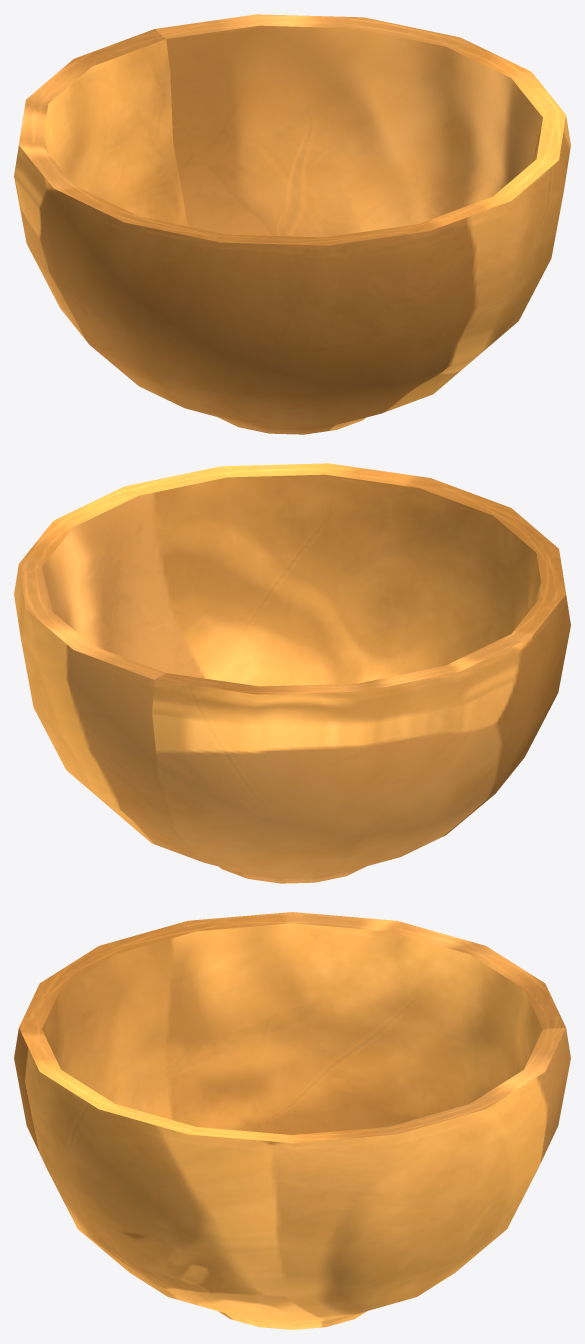
The model's file is SM_Stylized_Bowl_B.fbx.
3 renders of one model, top to bottom at view 1: azimuth 30°, elevation 25°; view 2: azimuth 150°, elevation 25°; view 3: azimuth 270°, elevation 25°, orthographic.
Parts seen in each view (by area): view 1: SM_Stylized_Bowl_B_LOD0; view 2: SM_Stylized_Bowl_B_LOD0; view 3: SM_Stylized_Bowl_B_LOD0.
Part boxes in pixels (left/top/right/bottom): SM_Stylized_Bowl_B_LOD0: left=14, top=14, right=570, bottom=434; SM_Stylized_Bowl_B_LOD0: left=14, top=463, right=570, bottom=883; SM_Stylized_Bowl_B_LOD0: left=14, top=912, right=570, bottom=1329.
Bounding box in the file's own units: 20.93 × 20.93 × 10.99.
